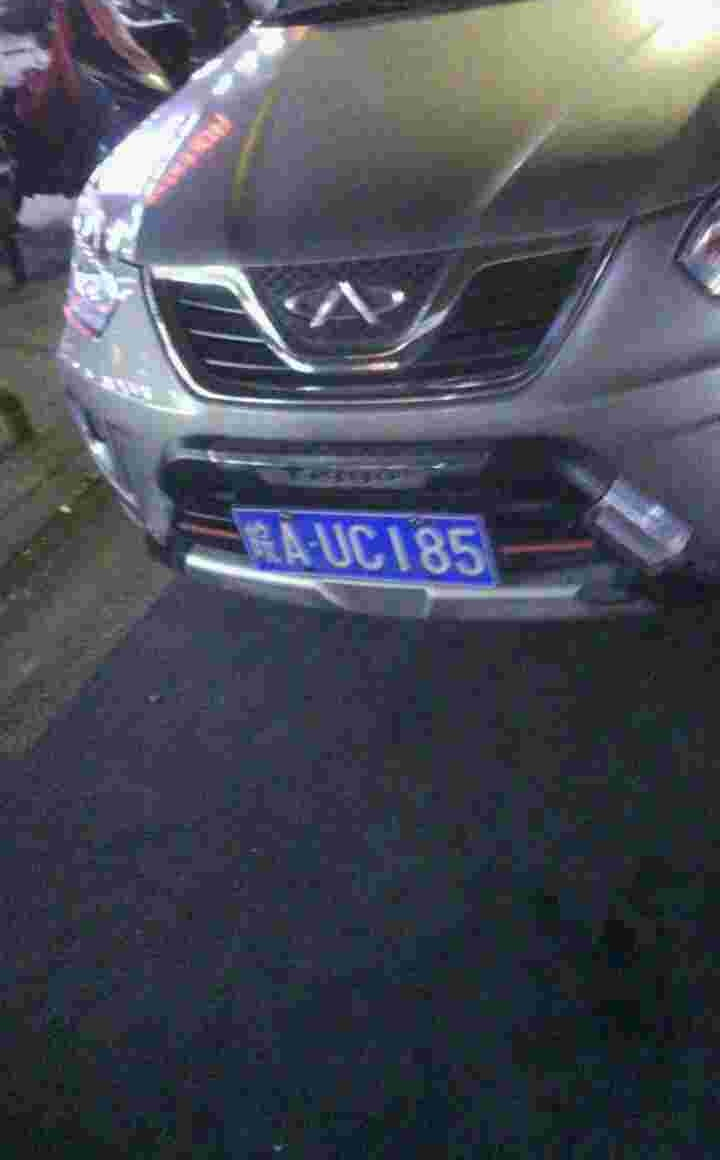plate: (226, 502, 506, 592)
